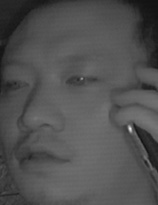eye: (65, 70, 96, 90), (2, 75, 31, 93)
mouth: (16, 136, 74, 177)
